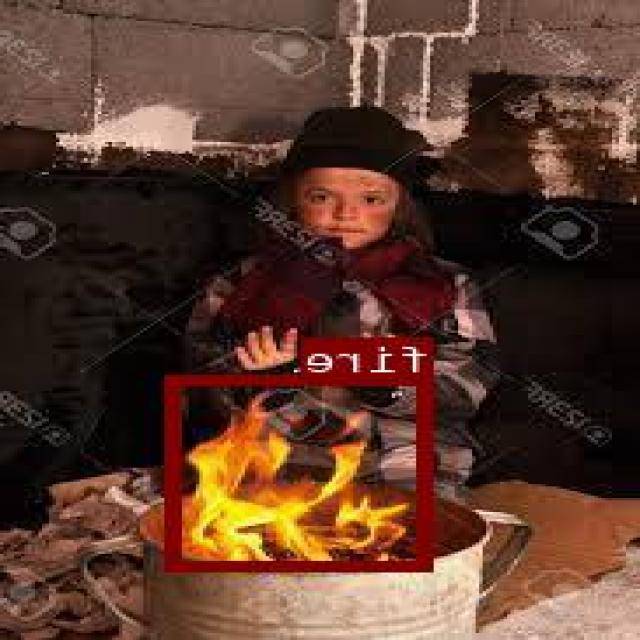fire: (168, 375, 437, 569)
